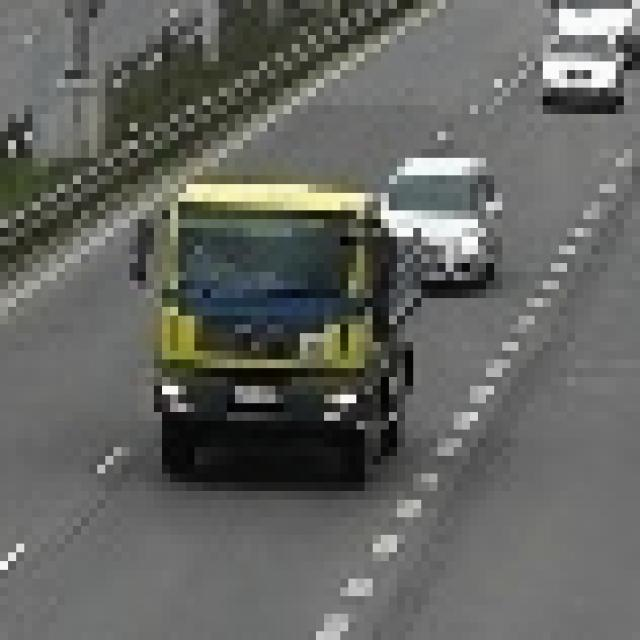truck: (114, 168, 406, 475)
